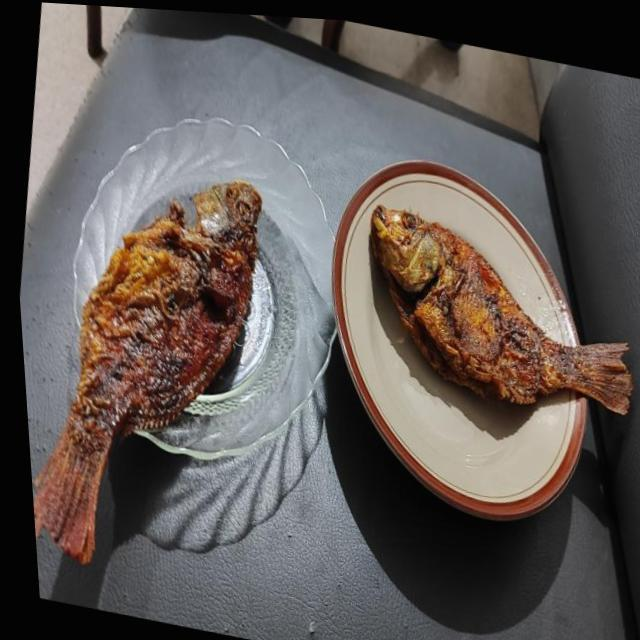ikan_mujair: (34, 180, 262, 563), (370, 205, 632, 414)
